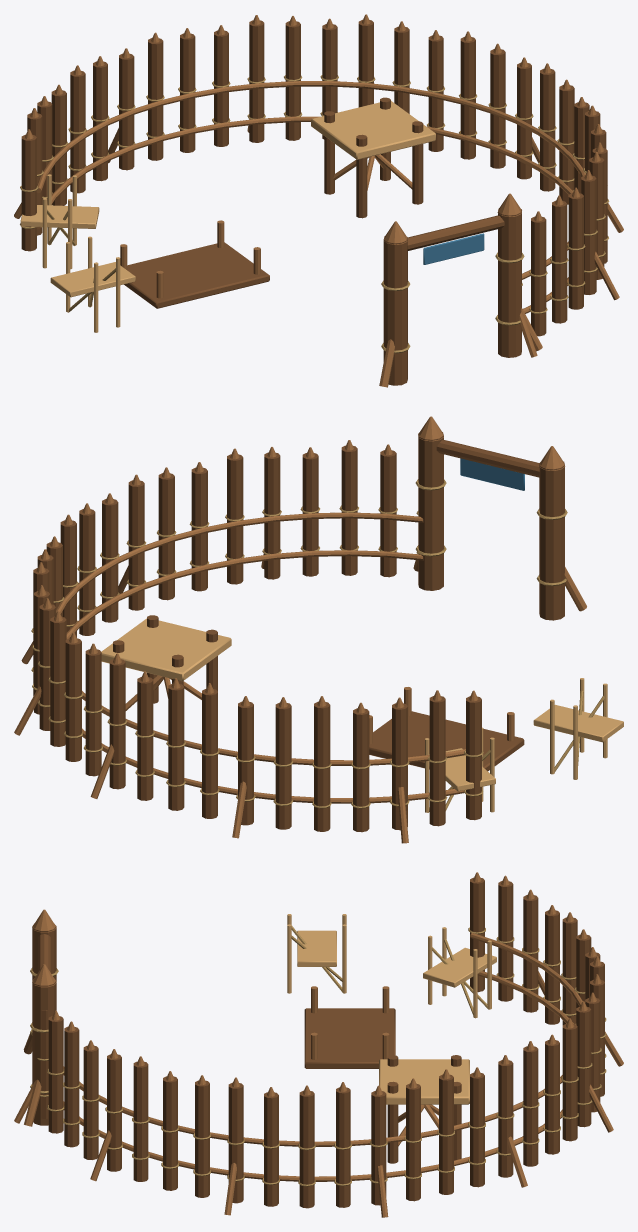
Rendered from fort_stage_2.glb.
3 renders of one model, top to bottom at view 1: azimuth 30°, elevation 25°; view 2: azimuth 150°, elevation 25°; view 3: azimuth 270°, elevation 25°, orthographic. The views are drawn at different scales.
Parts seen in each view (by area): view 1: WorkshopFloor, TowerFoundationDeck, GateReinforcedPost_1, GateReinforcedPost_-1, PalisadePost_02_Body, PalisadePost_01_Body, PalisadePost_03_Body, PalisadePost_14_Body, PalisadePost_20_Body, PalisadePost_23_Body, PalisadePost_19_Body, PalisadePost_11_Body (+26 smaller); view 2: TowerFoundationDeck, GateReinforcedPost_-1, GateReinforcedPost_1, WorkshopFloor, PalisadePost_26_Body, PalisadePost_29_Body, PalisadePost_22_Body, PalisadePost_25_Body, PalisadePost_19_Body, PalisadePost_20_Body, PalisadePost_18_Body, PalisadePost_27_Body (+24 smaller); view 3: WorkshopFloor, TowerFoundationDeck, PalisadePost_17_Body, PalisadePost_02_Body, PalisadePost_05_Body, GateReinforcedPost_1, PalisadePost_10_Body, PalisadePost_01_Body, PalisadePost_19_Body, PalisadePost_03_Body, PalisadePost_11_Body, PalisadePost_14_Body (+25 smaller).
Boxes of the visible parts, <box> form: WorkshopFloor: <box>124,242,269,308</box>; TowerFoundationDeck: <box>311,101,435,159</box>; GateReinforcedPost_1: <box>498,208,521,357</box>; GateReinforcedPost_-1: <box>383,236,407,385</box>; PalisadePost_02_Body: <box>552,200,567,323</box>; PalisadePost_01_Body: <box>531,216,546,336</box>; PalisadePost_03_Body: <box>568,193,583,309</box>; PalisadePost_14_Body: <box>460,36,475,159</box>; PalisadePost_20_Body: <box>249,20,264,142</box>; PalisadePost_23_Body: <box>148,38,163,160</box>; PalisadePost_19_Body: <box>285,21,300,140</box>; PalisadePost_11_Body: <box>540,68,555,191</box>; TowerFoundationDeck: <box>101,618,231,681</box>; GateReinforcedPost_-1: <box>539,461,564,620</box>; GateReinforcedPost_1: <box>418,432,443,590</box>; WorkshopFloor: <box>369,711,524,771</box>; PalisadePost_26_Body: <box>314,701,330,831</box>; PalisadePost_29_Body: <box>429,696,445,826</box>; PalisadePost_22_Body: <box>168,683,184,810</box>; PalisadePost_25_Body: <box>275,702,291,829</box>; PalisadePost_19_Body: <box>85,649,101,776</box>; PalisadePost_20_Body: <box>109,659,125,789</box>; PalisadePost_18_Body: <box>65,638,81,761</box>; PalisadePost_27_Body: <box>353,708,369,832</box>; WorkshopFloor: <box>304,1008,395,1068</box>; TowerFoundationDeck: <box>379,1059,469,1104</box>; PalisadePost_17_Body: <box>523,1046,538,1166</box>; PalisadePost_02_Body: <box>64,1026,79,1147</box>; PalisadePost_05_Body: <box>133,1061,148,1181</box>; GateReinforcedPost_1: <box>32,978,56,1125</box>; PalisadePost_10_Body: <box>299,1090,314,1208</box>; PalisadePost_01_Body: <box>48,1016,63,1133</box>; PalisadePost_19_Body: <box>562,1023,577,1141</box>; PalisadePost_03_Body: <box>83,1045,98,1159</box>; PalisadePost_11_Body: <box>336,1087,350,1207</box>; PalisadePost_14_Body: <box>439,1074,453,1194</box>.
Size of the model in its own units: 21.53 by 6.28 by 22.15.
